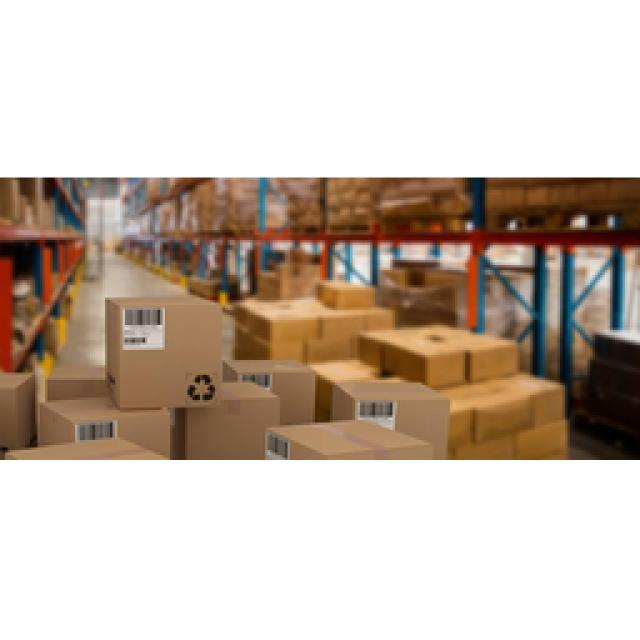cardboard: (0, 298, 565, 458)
